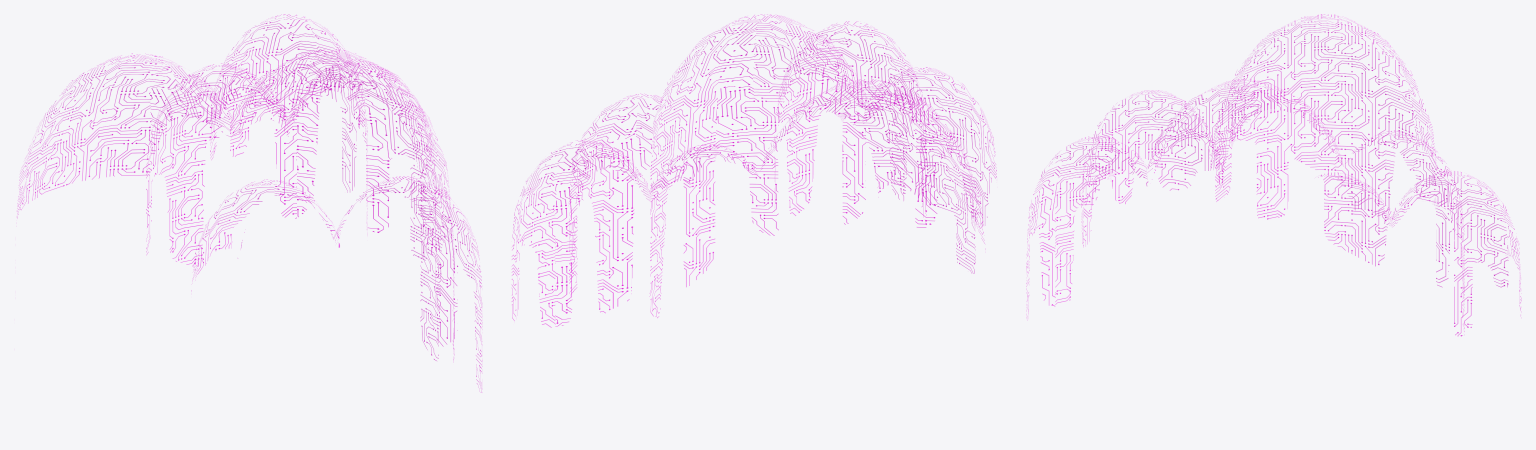
Rendered from entity60798.gltf.
The picture shows the model from 3 angles, left to right: view 1: azimuth 30°, elevation 25°; view 2: azimuth 150°, elevation 25°; view 3: azimuth 270°, elevation 25°; orthographic projection. The views are drawn at different scales.
Visible parts, largest first — view 1: node_Dome04_Outline; view 2: node_Dome04_Outline; view 3: node_Dome04_Outline.
Boxes of the visible parts, x1=… form: node_Dome04_Outline: x1=17, y1=14, x2=482, y2=392; node_Dome04_Outline: x1=512, y1=14, x2=996, y2=327; node_Dome04_Outline: x1=1026, y1=14, x2=1521, y2=336.
Size of the model in its own units: 37.09 by 29.28 by 43.68.
1 material, 1 textured.
